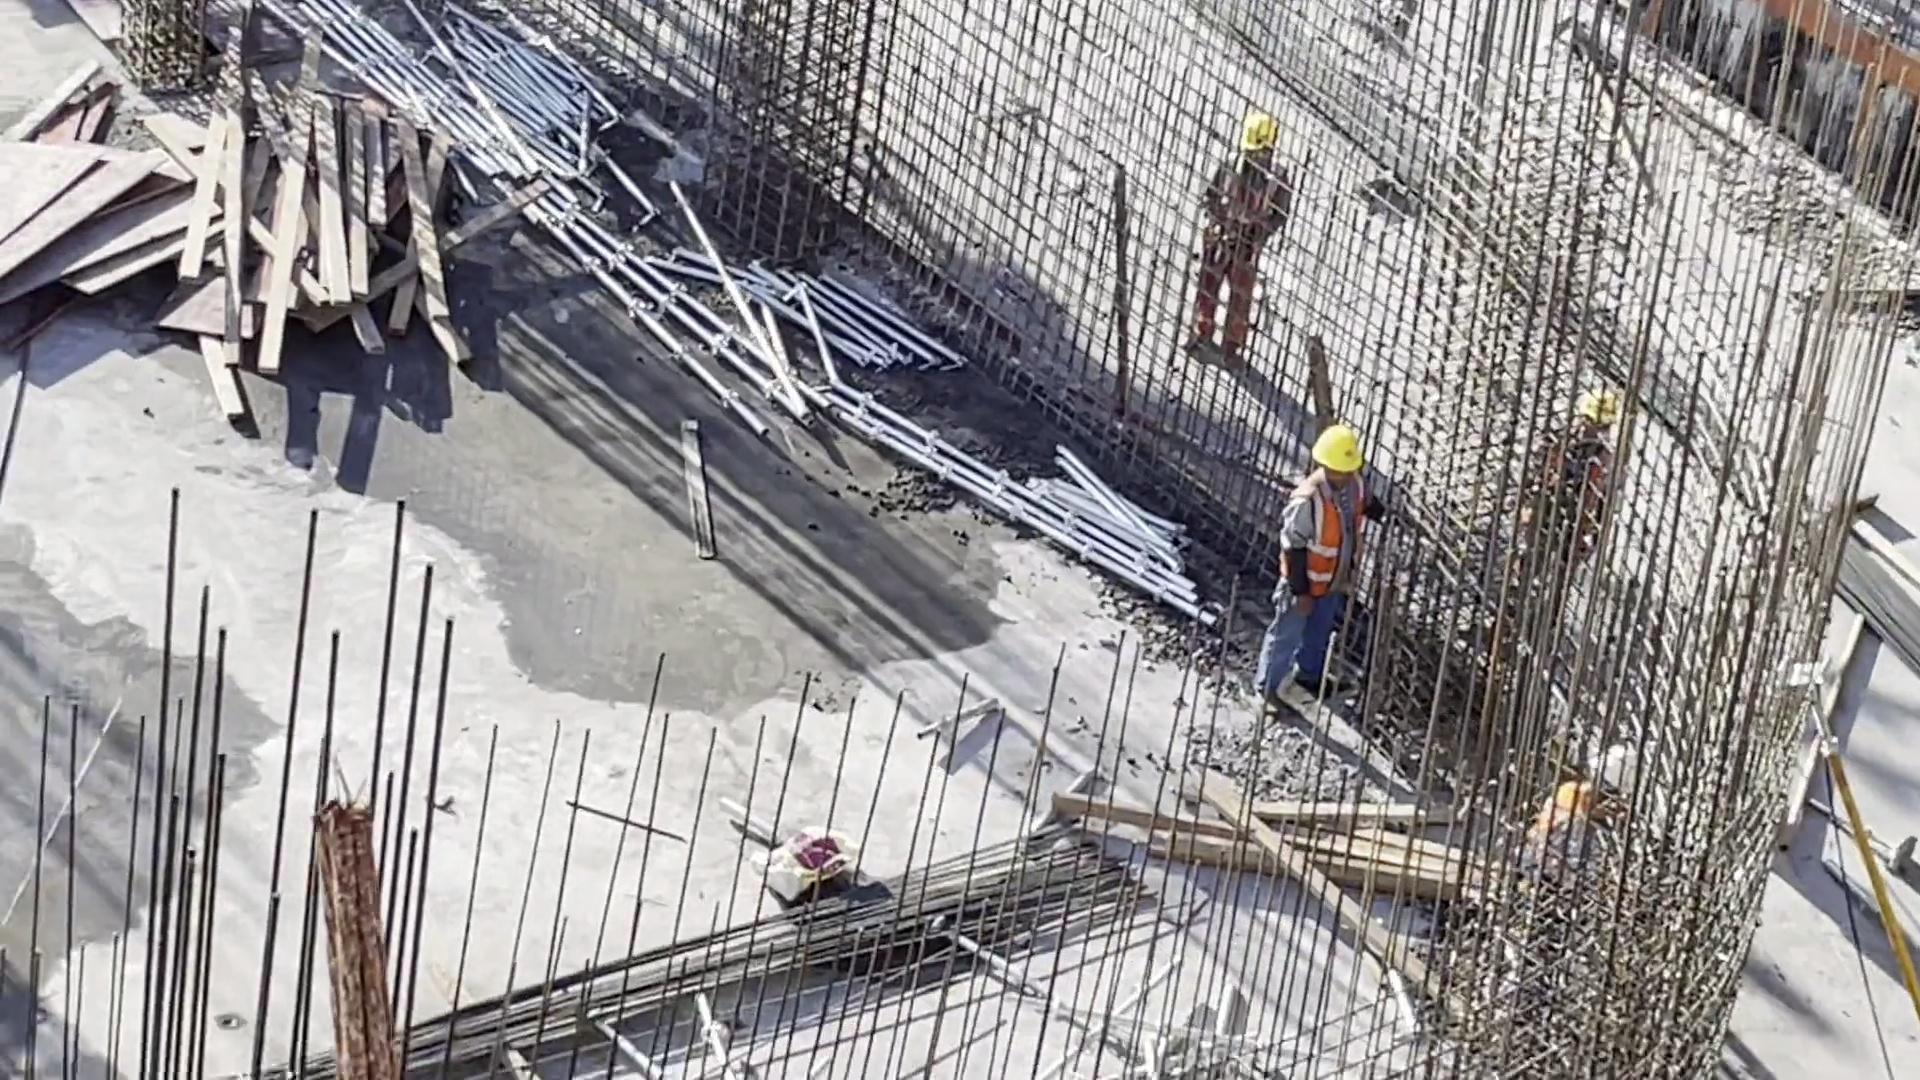board: (1, 153, 192, 327)
helmet: (1593, 741, 1648, 798), (1311, 426, 1373, 476), (1237, 108, 1282, 161), (1570, 386, 1619, 426)
person: (1258, 416, 1375, 713), (1518, 387, 1621, 693), (1196, 115, 1292, 371), (1515, 749, 1658, 917)
rebar: (372, 823, 1128, 1079), (1814, 519, 1920, 673)
scaffold: (1002, 433, 1210, 628), (716, 273, 969, 387), (436, 1, 595, 169)
vest: (1529, 434, 1614, 548), (1303, 481, 1374, 602), (1215, 153, 1282, 251), (1532, 781, 1601, 849)
wood: (194, 61, 471, 402)
